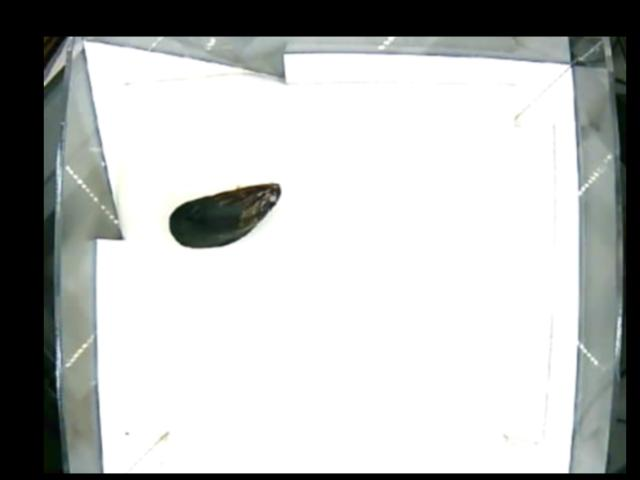Shell: (168, 181, 284, 249)
